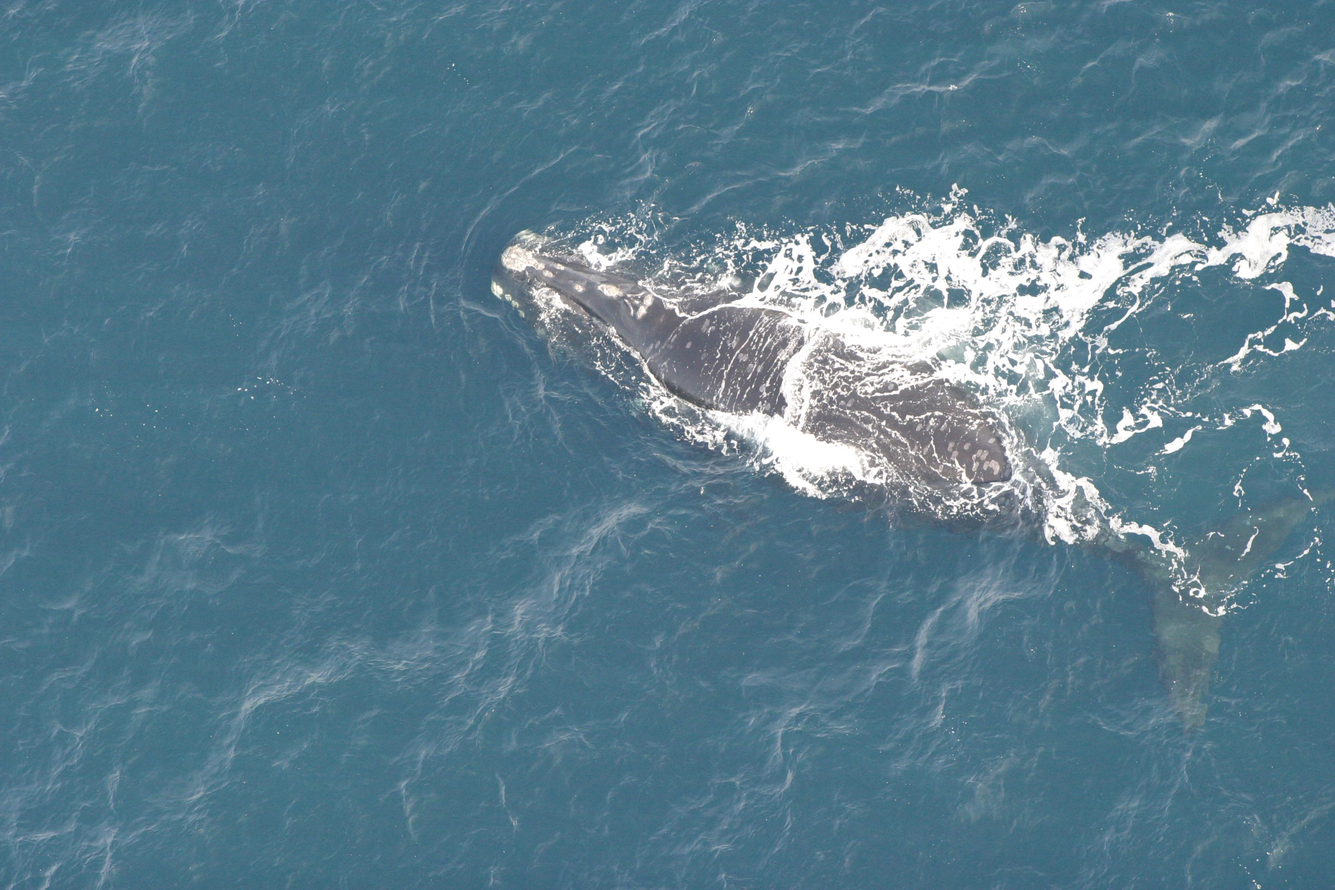whale: (476, 222, 1335, 741)
